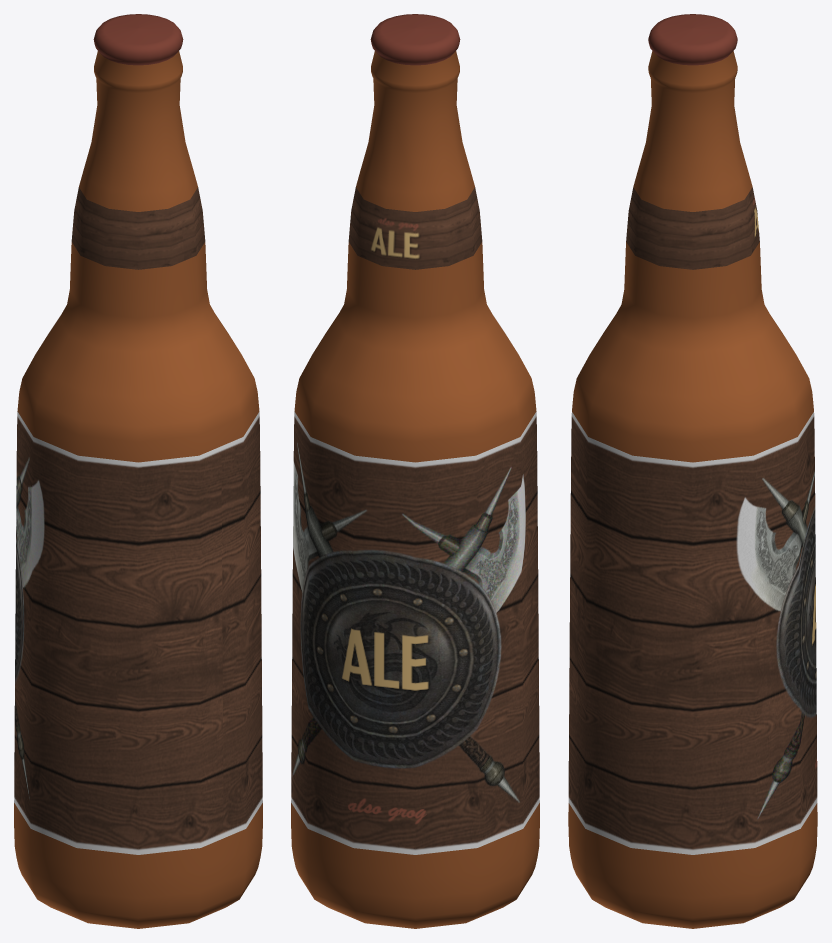
The model's file is BeerBottle.fbx.
3 renders of one model, left to right at view 1: azimuth 30°, elevation 25°; view 2: azimuth 150°, elevation 25°; view 3: azimuth 270°, elevation 25°, orthographic.
Visible parts, largest first — view 1: beerbottle_beerbottle_blinn_0; view 2: beerbottle_beerbottle_blinn_0; view 3: beerbottle_beerbottle_blinn_0.
Boxes of the visible parts, x1,y1,x2,y2 form: beerbottle_beerbottle_blinn_0: (14, 14, 262, 928); beerbottle_beerbottle_blinn_0: (291, 14, 539, 928); beerbottle_beerbottle_blinn_0: (568, 14, 817, 928).
Bounding box in the file's own units: 112 × 431 × 112.
1 material, 1 textured.
